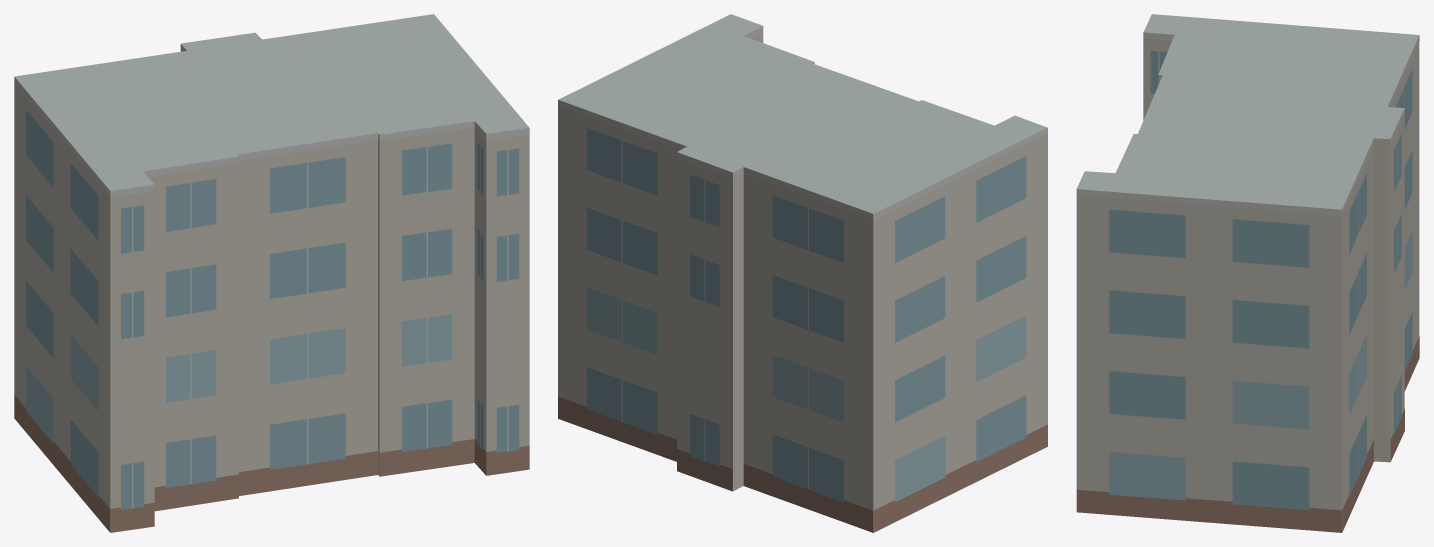
File: survey-upis-32913188.glb
3 renders of one model, left to right at view 1: azimuth 30°, elevation 25°; view 2: azimuth 150°, elevation 25°; view 3: azimuth 270°, elevation 25°, orthographic. The views are drawn at different scales.
Visible parts, largest first — view 1: survey-upis-32913188.tmp; view 2: survey-upis-32913188.tmp; view 3: survey-upis-32913188.tmp.
Boxes of the visible parts, box(x1,y1,x2,y2) form: survey-upis-32913188.tmp: box(14, 14, 529, 532); survey-upis-32913188.tmp: box(558, 14, 1047, 532); survey-upis-32913188.tmp: box(1076, 14, 1419, 532).
Size of the model in its own units: 16.96 by 13.05 by 12.56.
